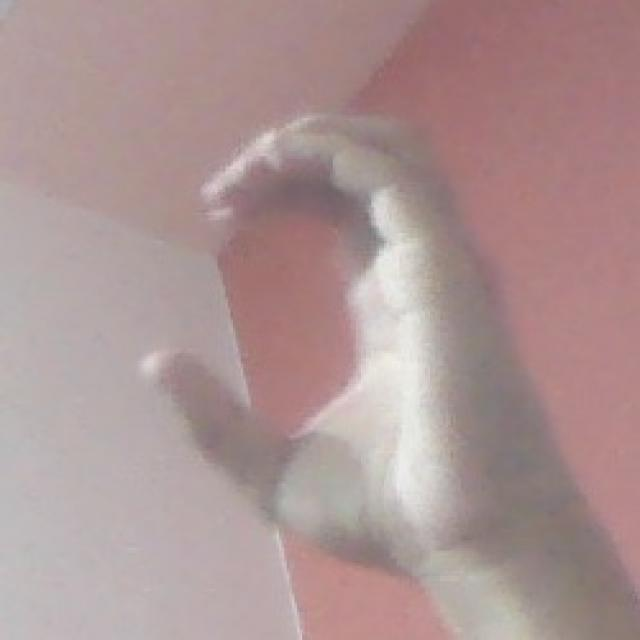Alphabet-C: (152, 110, 534, 587)
